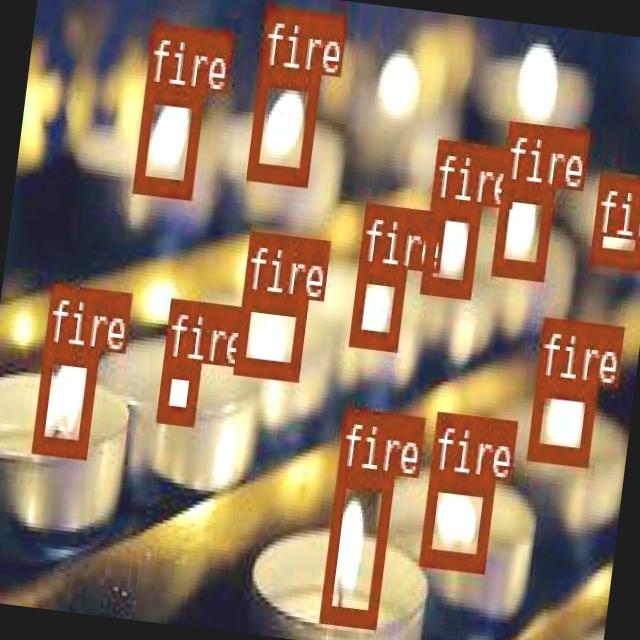fire: (318, 468, 392, 624), (244, 64, 317, 182), (130, 80, 202, 194), (31, 340, 98, 454), (417, 470, 492, 570), (232, 290, 306, 376), (488, 178, 552, 277), (526, 376, 596, 463), (418, 198, 480, 295), (587, 171, 640, 263), (347, 262, 403, 348), (156, 357, 198, 423)
